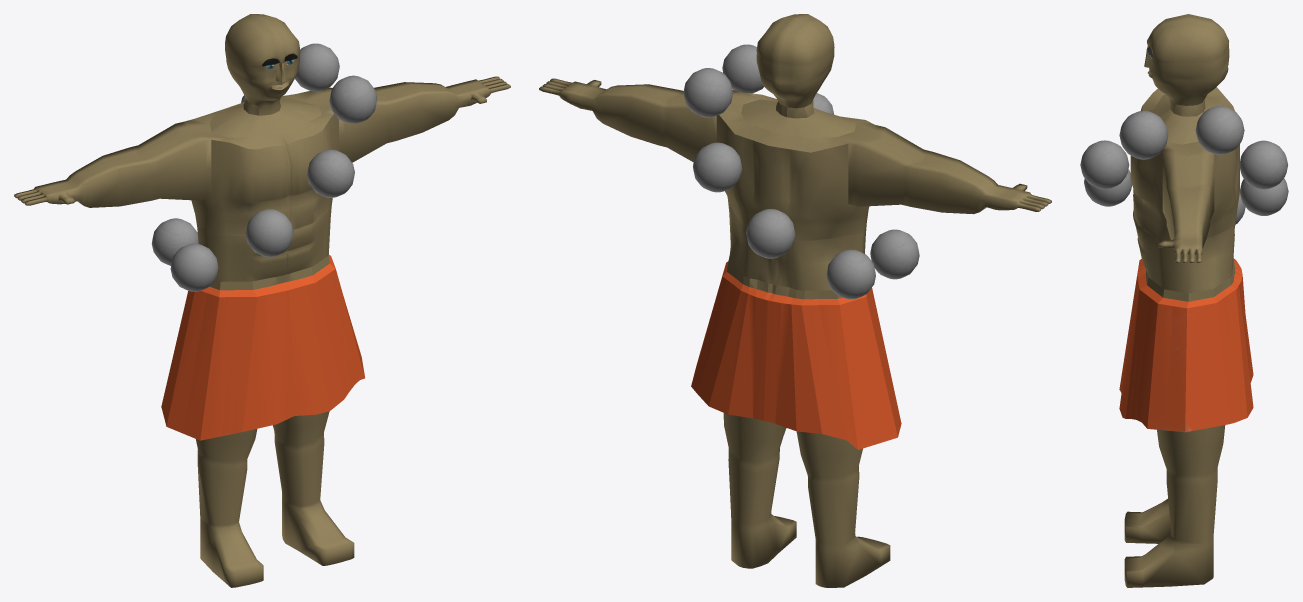
File: 수도승.fbx
3 views of the same model, side by side, from view 1: azimuth 30°, elevation 25°; view 2: azimuth 150°, elevation 25°; view 3: azimuth 270°, elevation 25° (orthographic). The views are drawn at different scales.
Visible parts, largest first — view 1: Cylinder001; view 2: Cylinder001; view 3: Cylinder001.
Part boxes in pixels (x1,y1,x2,y2): Cylinder001: (14,14,510,587); Cylinder001: (539,14,1051,587); Cylinder001: (1080,14,1288,587).
Size of the model in its own units: 0.0185 by 0.0195 by 0.0068.
1 material, 1 textured.
